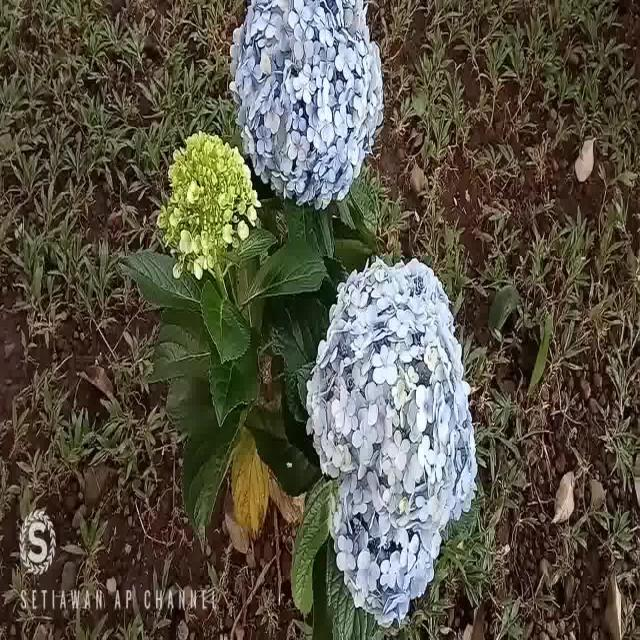Flower: (305, 254, 481, 630), (226, 1, 384, 205)
